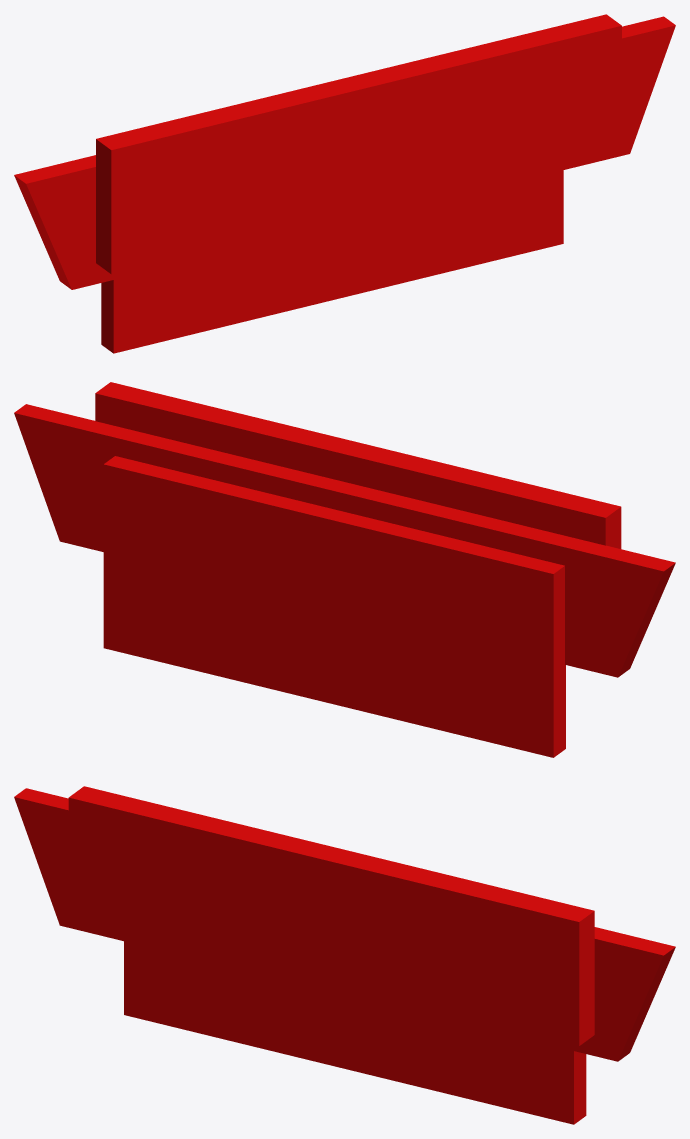
File: SM_Bld_Motel_01_Sign_01_Collision.fbx
3 renders of one model, top to bottom at view 1: azimuth 30°, elevation 25°; view 2: azimuth 150°, elevation 25°; view 3: azimuth 330°, elevation 25°, orthographic.
Parts seen in each view (by area): view 1: SM_Bld_Motel_01_Sign_01_Collision; view 2: SM_Bld_Motel_01_Sign_01_Collision; view 3: SM_Bld_Motel_01_Sign_01_Collision.
Boxes of the visible parts, bbox=[...] form: SM_Bld_Motel_01_Sign_01_Collision: bbox=[14, 14, 675, 353]; SM_Bld_Motel_01_Sign_01_Collision: bbox=[14, 382, 675, 757]; SM_Bld_Motel_01_Sign_01_Collision: bbox=[14, 786, 675, 1124].
Size of the model in its own units: 1180 by 399 by 123.
